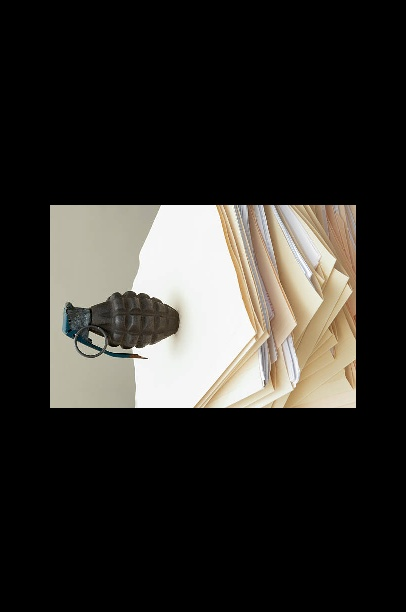e1: (59, 291, 179, 364)
